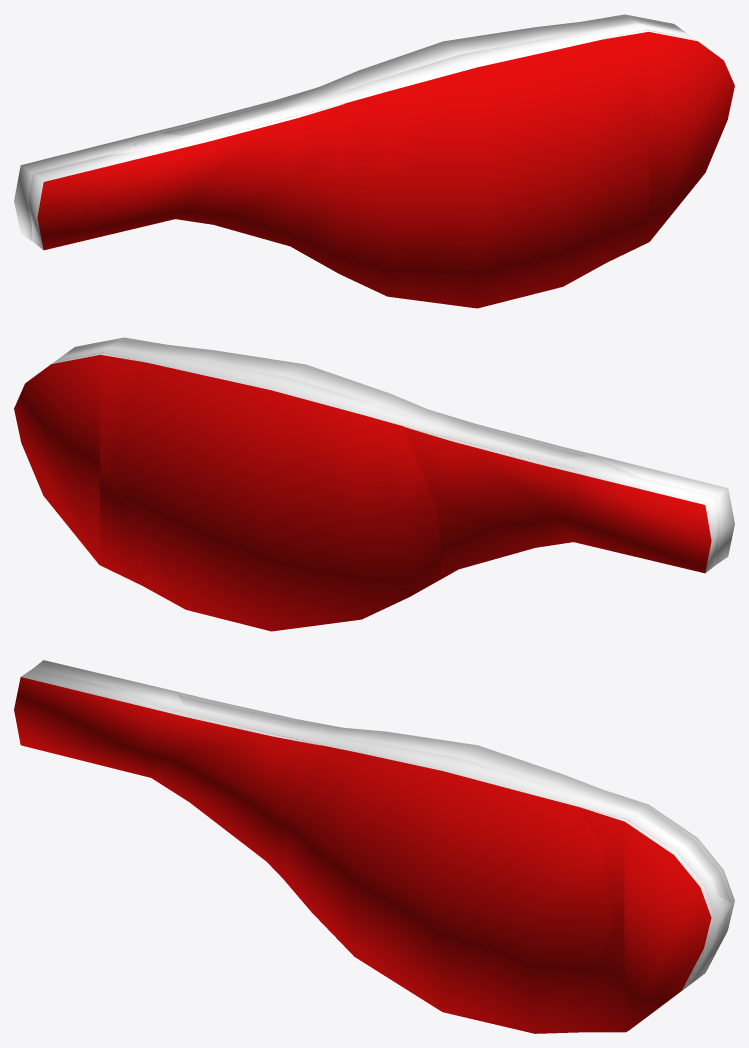
The model's file is Kick_Pad.fbx.
3 renders of one model, top to bottom at view 1: azimuth 30°, elevation 25°; view 2: azimuth 150°, elevation 25°; view 3: azimuth 330°, elevation 25°, orthographic.
Parts seen in each view (by area): view 1: Kick Pad; view 2: Kick Pad; view 3: Kick Pad.
Boxes of the visible parts, bbox=[...] form: Kick Pad: bbox=[14, 14, 734, 308]; Kick Pad: bbox=[14, 337, 734, 631]; Kick Pad: bbox=[14, 660, 734, 1033].
Size of the model in its own units: 124 by 41.32 by 15.56.
